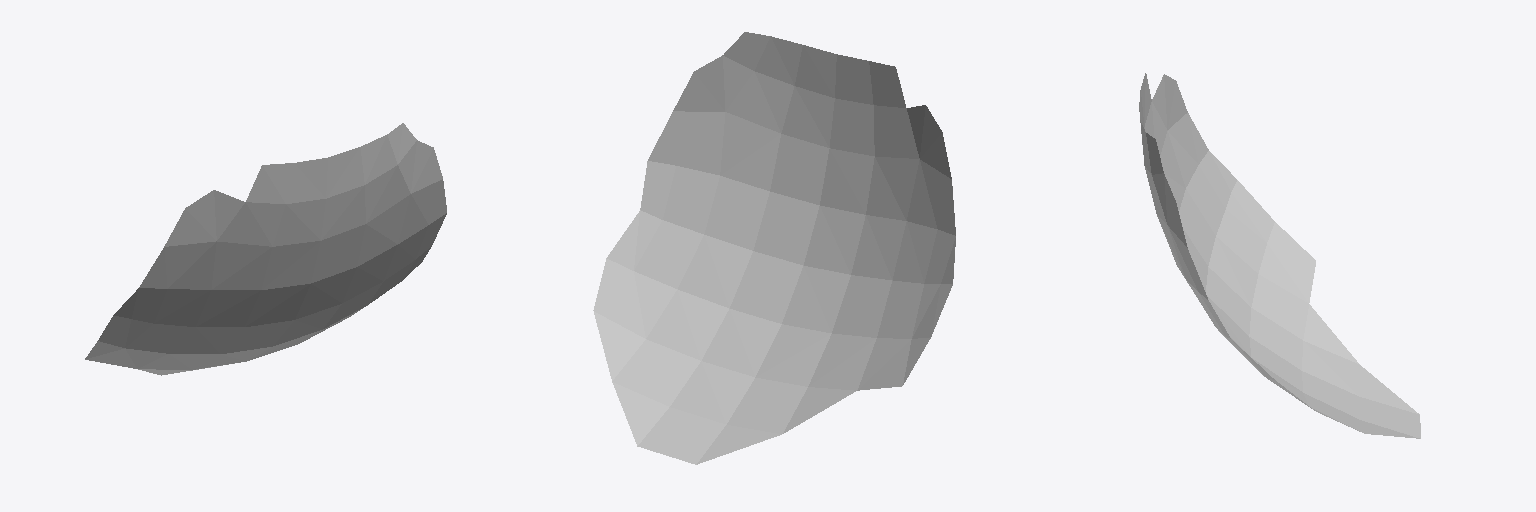
File: newMesh.obj
The picture shows the model from 3 angles: view 1: azimuth 30°, elevation 25°; view 2: azimuth 150°, elevation 25°; view 3: azimuth 270°, elevation 25°; orthographic projection.
Bounding box in the file's own units: 25.26 × 23.26 × 18.81.